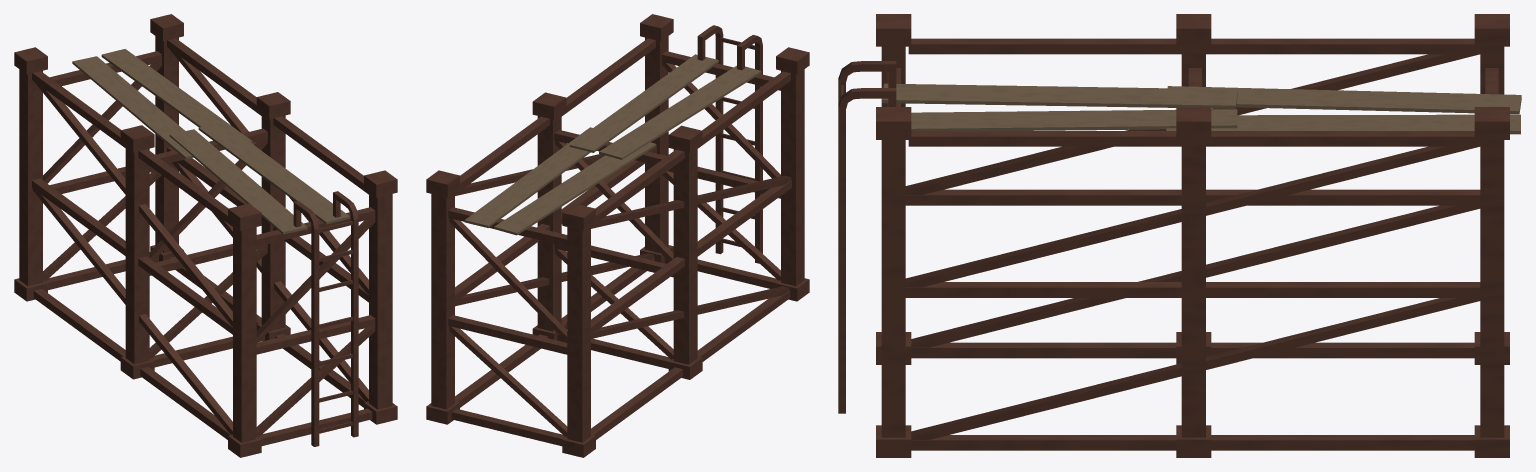
File: IronBigThing.fbx
3 views of the same model, side by side, from view 1: azimuth 30°, elevation 25°; view 2: azimuth 150°, elevation 25°; view 3: azimuth 270°, elevation 25° (orthographic). The views are drawn at different scales.
Visible parts, largest first — view 1: Cube.047; view 2: Cube.047; view 3: Cube.047.
Boxes of the visible parts, x1,y1,x2,y2 form: Cube.047: (14, 14, 397, 457); Cube.047: (426, 14, 809, 457); Cube.047: (838, 14, 1521, 457).
Size of the model in its own units: 315 by 459 by 846.
